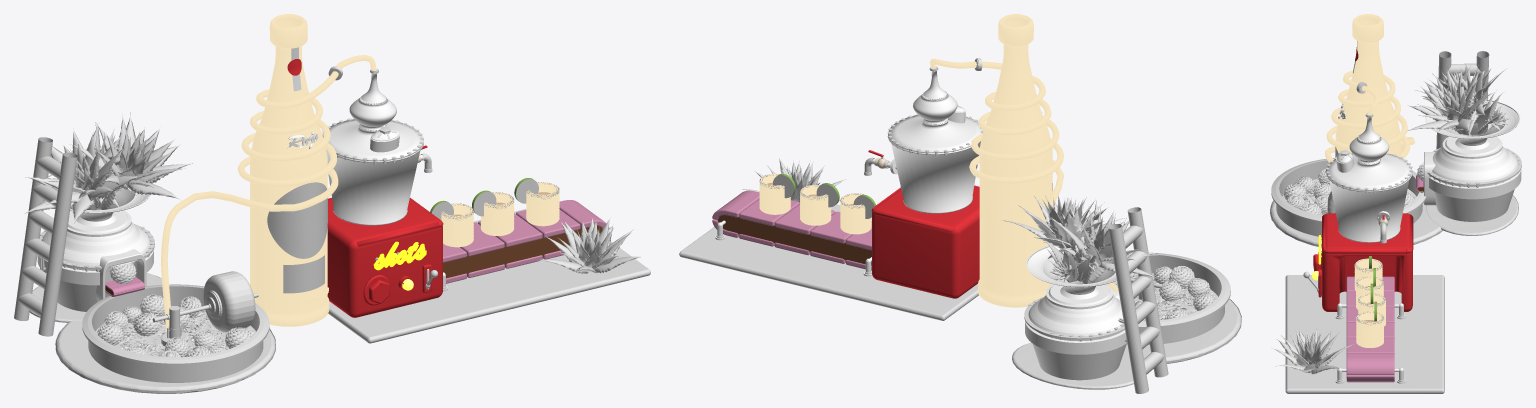
Rendered from tequila.glb.
The picture shows the model from 3 angles, left to right: view 1: azimuth 30°, elevation 25°; view 2: azimuth 150°, elevation 25°; view 3: azimuth 270°, elevation 25°; orthographic projection. The views are drawn at different scales.
Parts seen in each view (by area): view 1: bottle, base_tiles, panel_shots, still, mill, ladder, oven, coil, base_mill_tiles, belt, Agave.005, Label_Round (+14 smaller); view 2: bottle, panel_shots, oven, base_tiles, still, ladder, coil, belt, mill, belt_inner, base_mill_tiles, base_oven_tiles (+8 smaller); view 3: base_tiles, oven, still, panel_shots, bottle, belt, mill, Agave.005, coil, agave, base_oven_tiles, base_mill_tiles (+14 smaller).
Boxes of the visible parts, x1,y1,x2,y2 form: bottle: [250, 14, 329, 326]; base_tiles: [328, 209, 650, 343]; panel_shots: [327, 197, 443, 317]; still: [323, 73, 423, 225]; mill: [82, 284, 269, 382]; ladder: [14, 137, 77, 336]; oven: [37, 174, 154, 311]; coil: [161, 55, 376, 332]; base_mill_tiles: [55, 320, 275, 393]; belt: [443, 200, 609, 283]; Agave.005: [71, 112, 192, 199]; Label_Round: [267, 182, 327, 258]; bottle: [978, 14, 1052, 307]; panel_shots: [871, 185, 979, 298]; oven: [1024, 245, 1127, 380]; base_tiles: [679, 204, 978, 320]; still: [887, 70, 983, 213]; ladder: [1108, 207, 1168, 393]; coil: [930, 58, 1118, 291]; belt: [712, 190, 871, 270]; mill: [1114, 252, 1230, 344]; belt_inner: [717, 215, 871, 265]; base_mill_tiles: [1124, 299, 1241, 363]; base_oven_tiles: [1012, 342, 1133, 389]; base_tiles: [1285, 275, 1444, 393]; oven: [1423, 99, 1521, 221]; still: [1326, 117, 1412, 242]; panel_shots: [1322, 213, 1413, 311]; bottle: [1335, 14, 1400, 156]; belt: [1346, 276, 1394, 382]; mill: [1271, 158, 1426, 237]; Agave.005: [1408, 65, 1493, 131]; coil: [1324, 71, 1414, 162]; agave: [1273, 328, 1354, 374]; base_oven_tiles: [1426, 195, 1518, 235]; base_mill_tiles: [1270, 200, 1443, 246].
Bounding box in the file's own units: 7.07 × 3.8 × 3.44.
